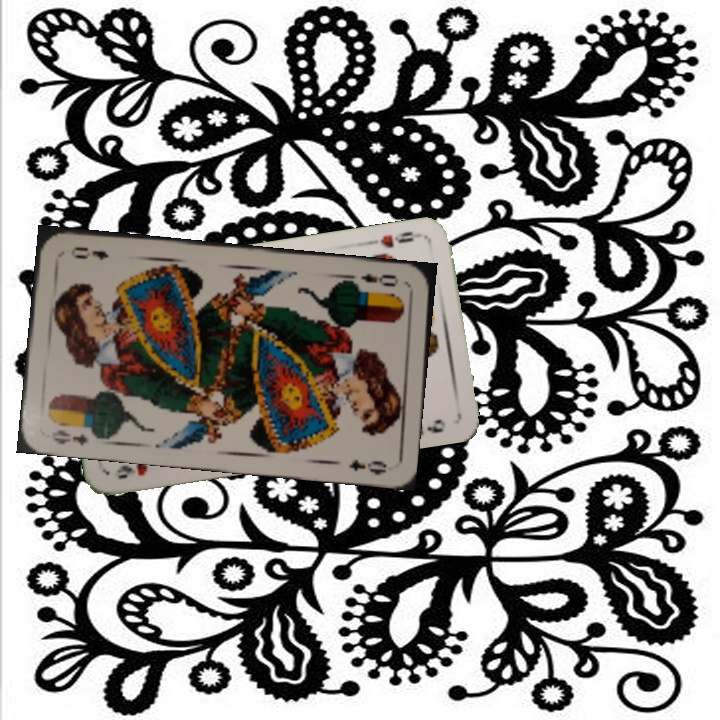EO: (47, 425, 89, 448), (357, 270, 401, 289)
H9: (366, 227, 416, 251), (112, 458, 150, 482)
